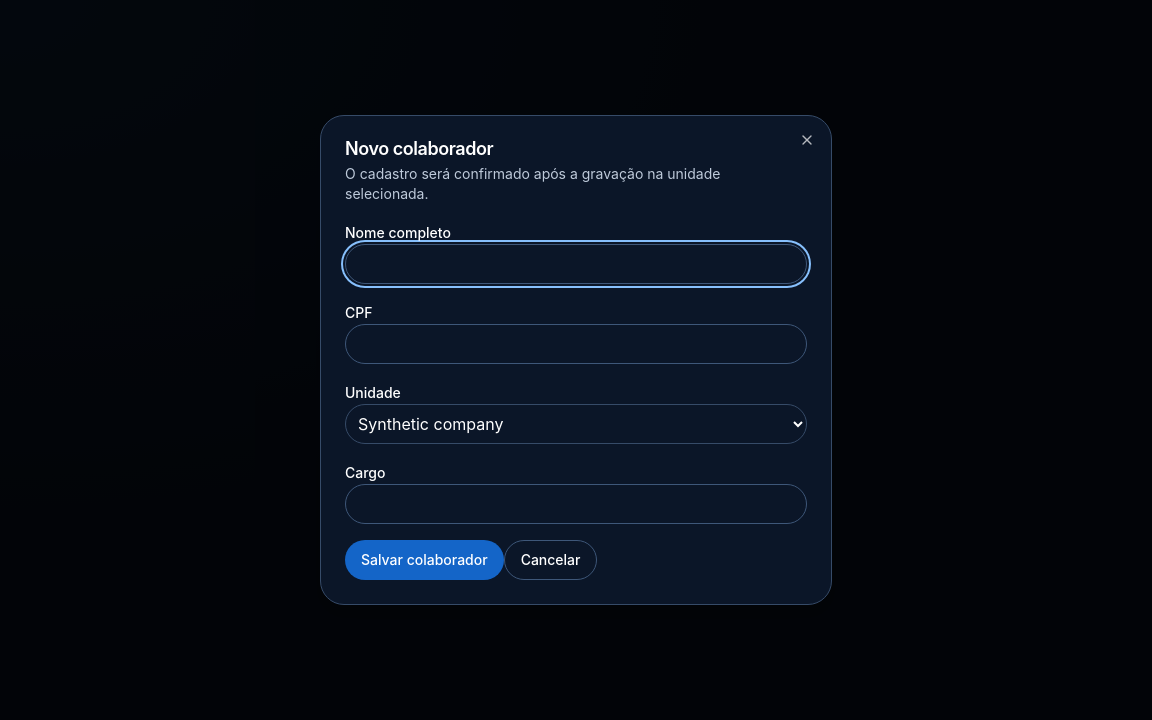
Scenario: does not overwrite an existing CPF
In the field with id "employee-name": [576, 264] box [345,244,807,284], type "Pessoa sintética"
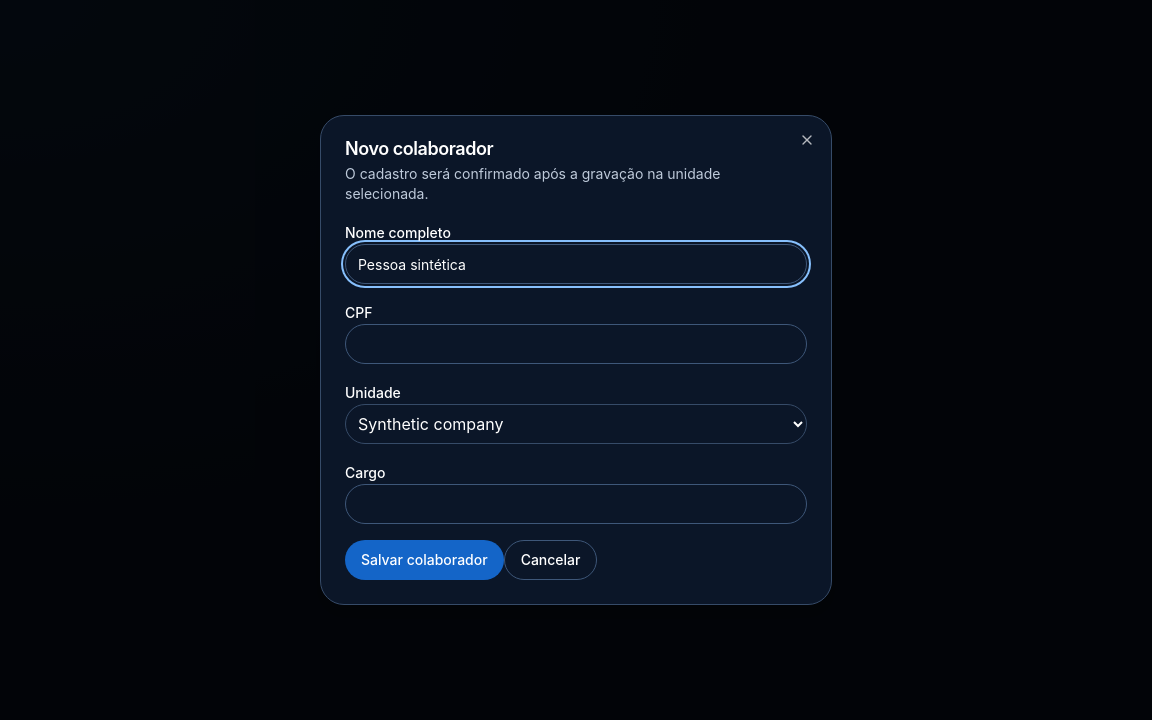
In the field with id "employee-job": [576, 504] box [345,484,807,524], type "Assistente"
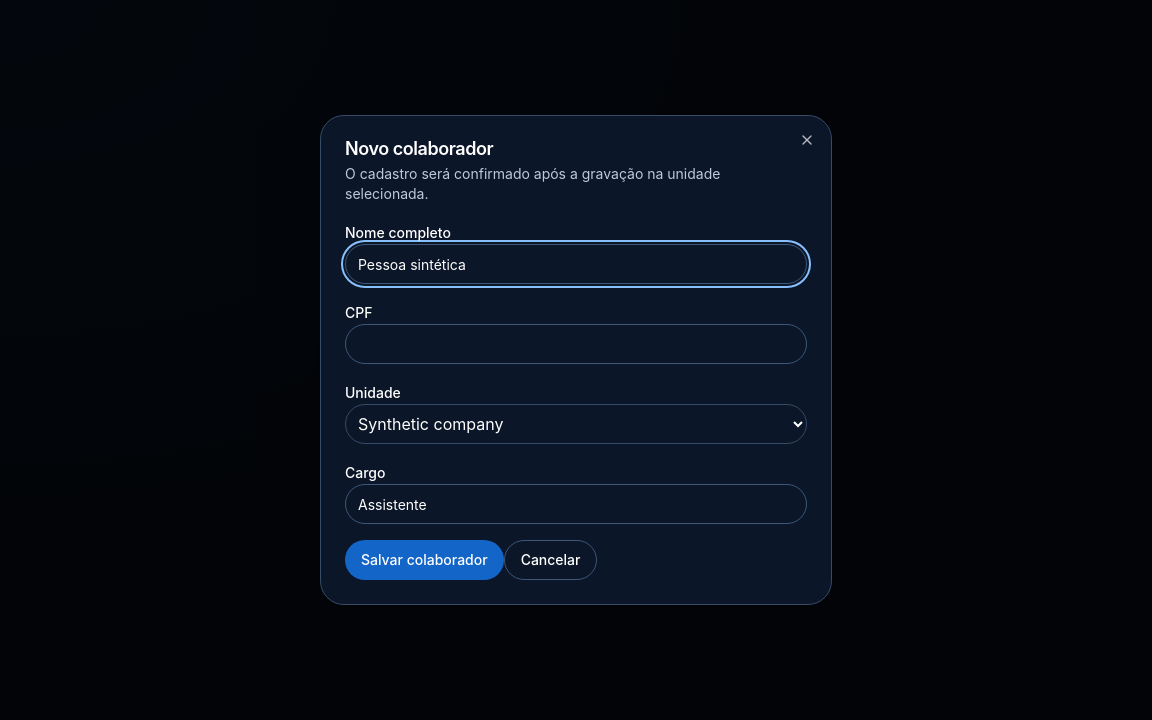
In the field with id "employee-cpf": [576, 344] box [345,324,807,364], type "52998224725"
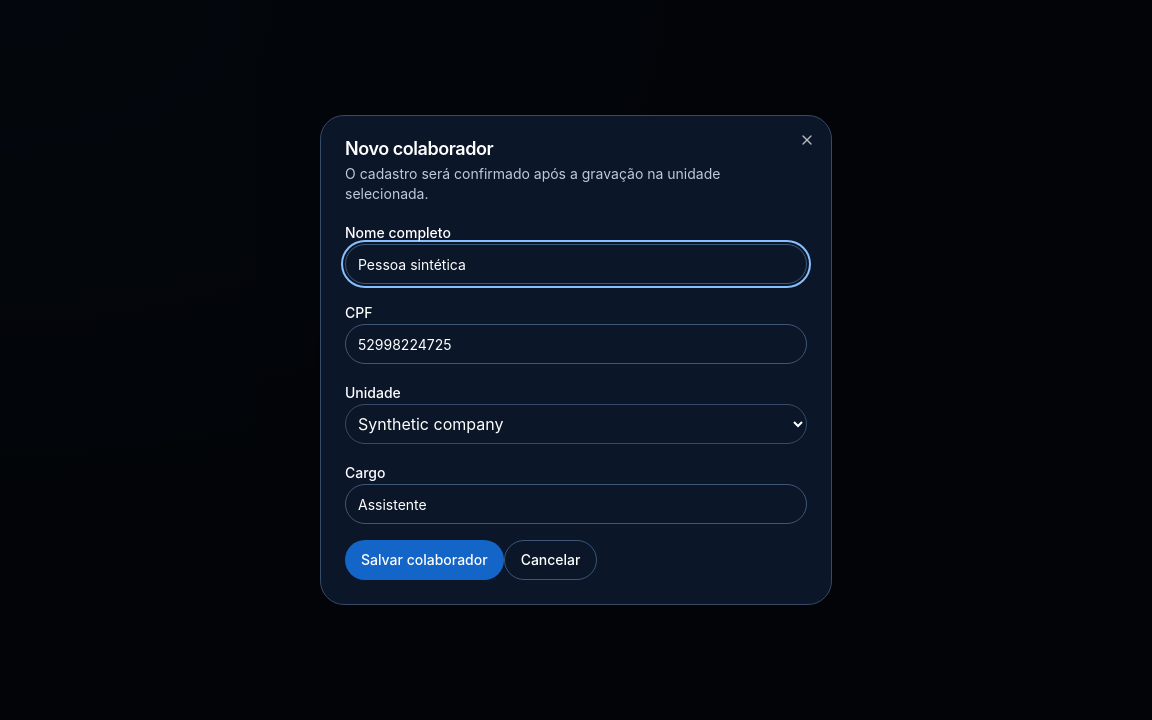
Submit the form, box [345,220,807,580]
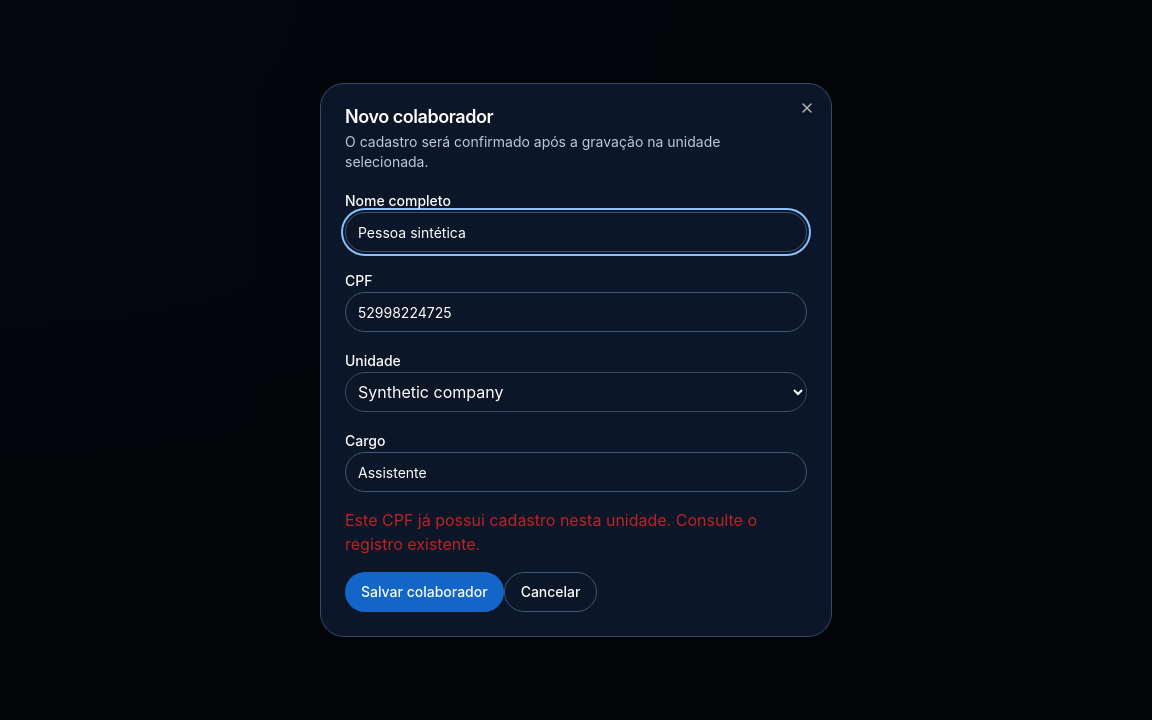
Result: the message "Este CPF já possui cadastro nesta unidade. Consulte o registro existente." is shown at [345,508,807,556]
